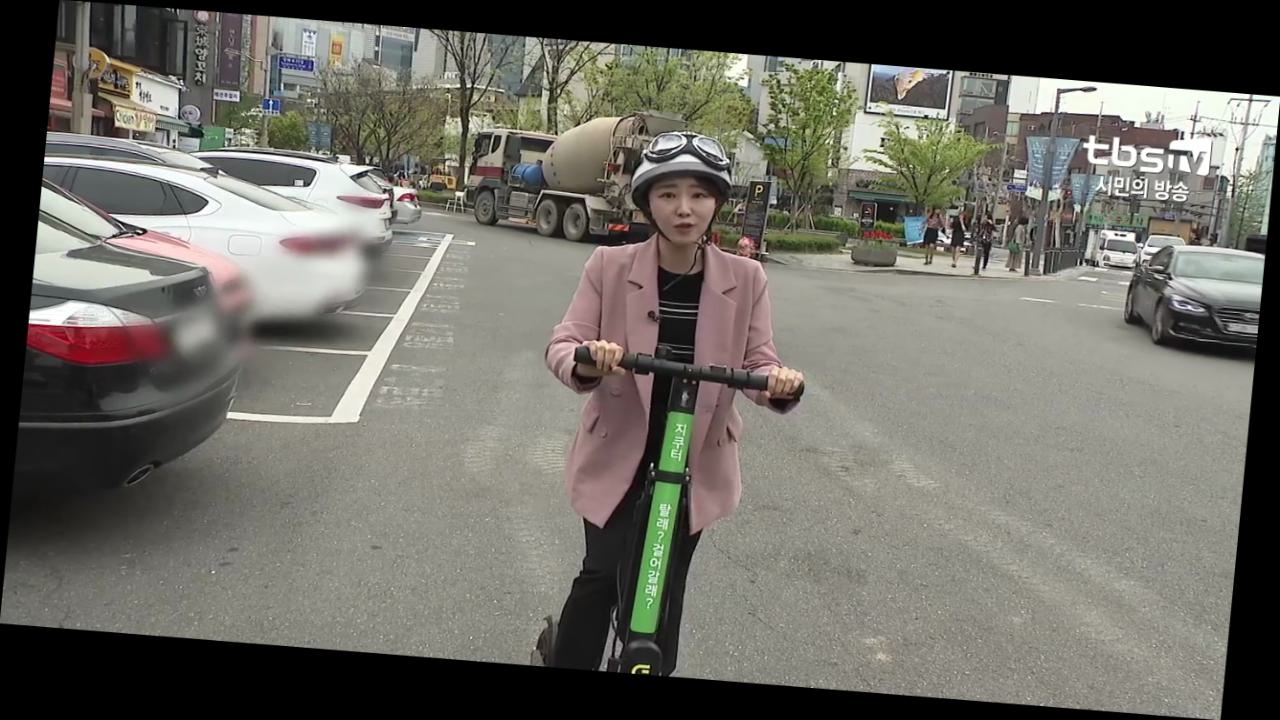helmet: (510, 120, 832, 685)
